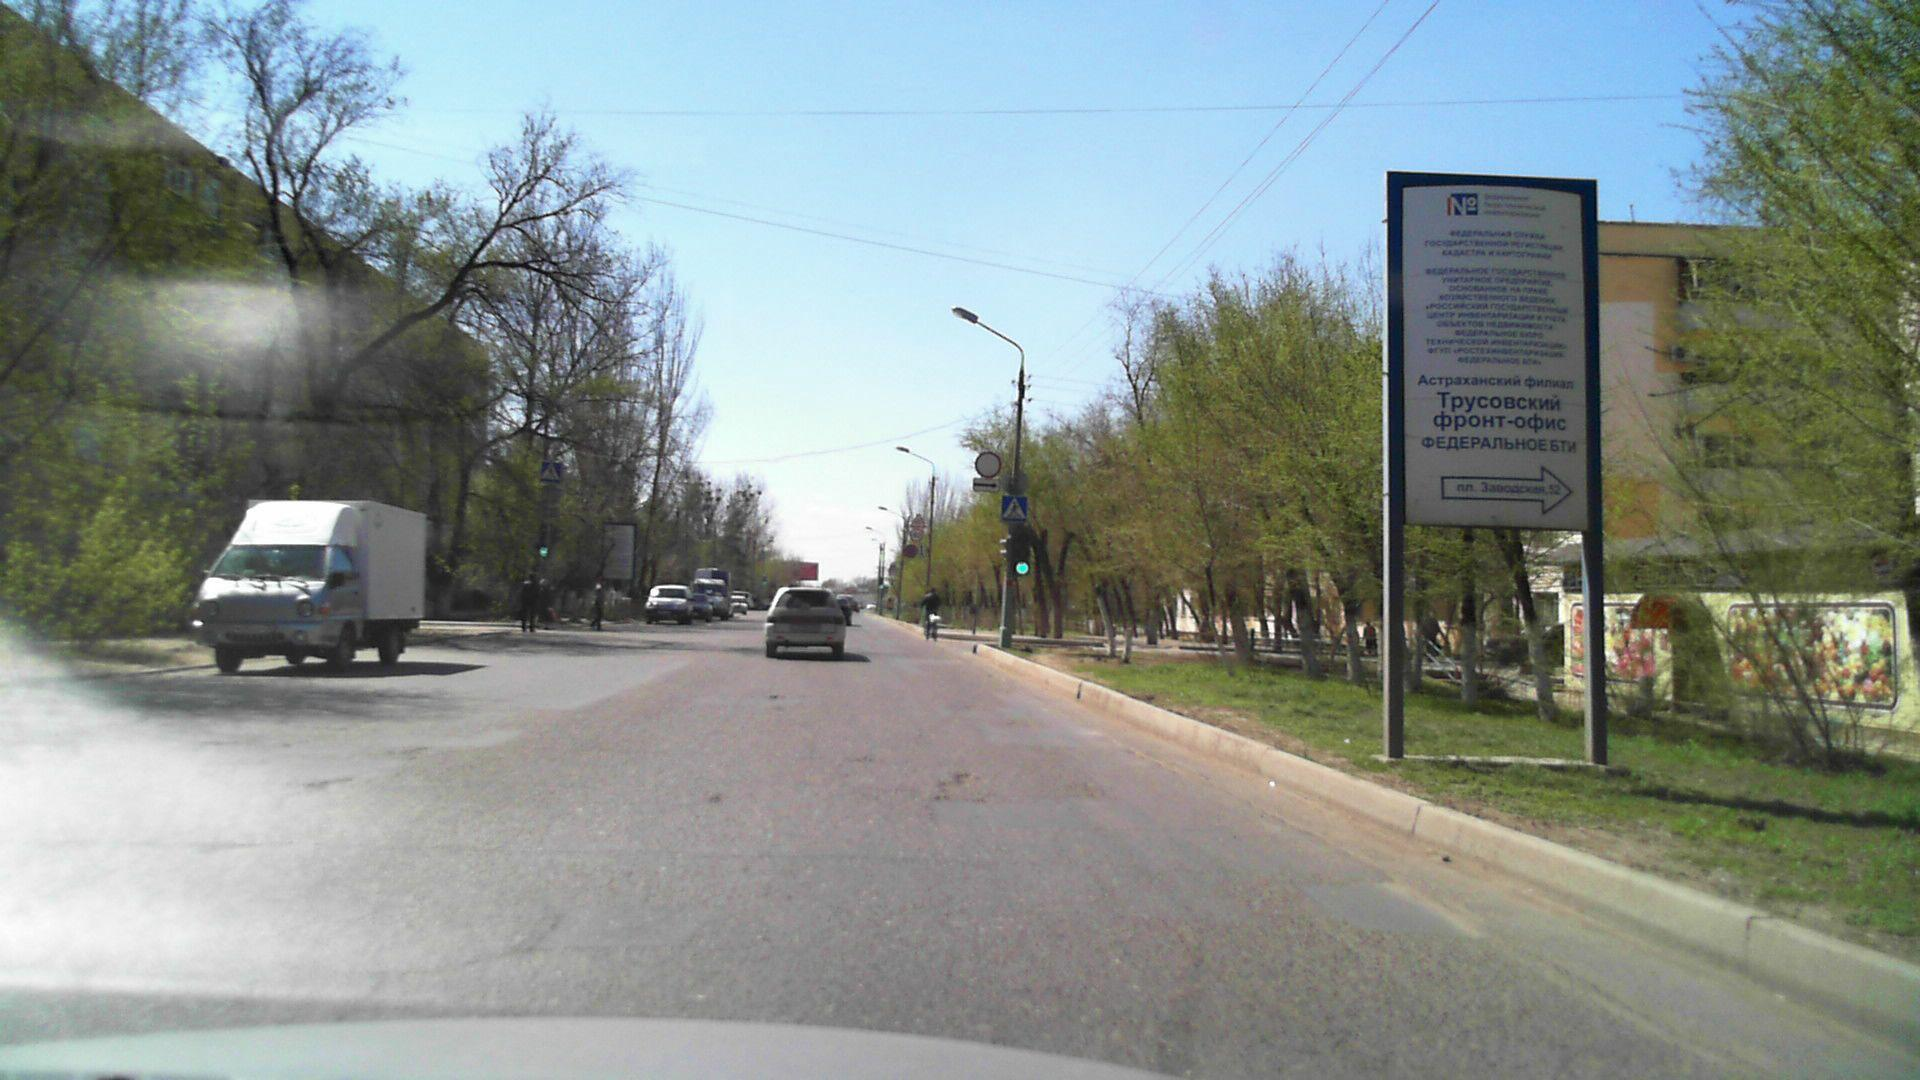1_23: (911, 513, 926, 527)
3_2: (975, 448, 1002, 477)
3_24: (909, 529, 923, 541)
3_27: (905, 545, 916, 556)
5_19_1: (1001, 496, 1026, 524)
5_19_2: (541, 462, 563, 481)
8_2_4: (919, 545, 926, 556)
8_3_1: (973, 477, 1000, 495)
